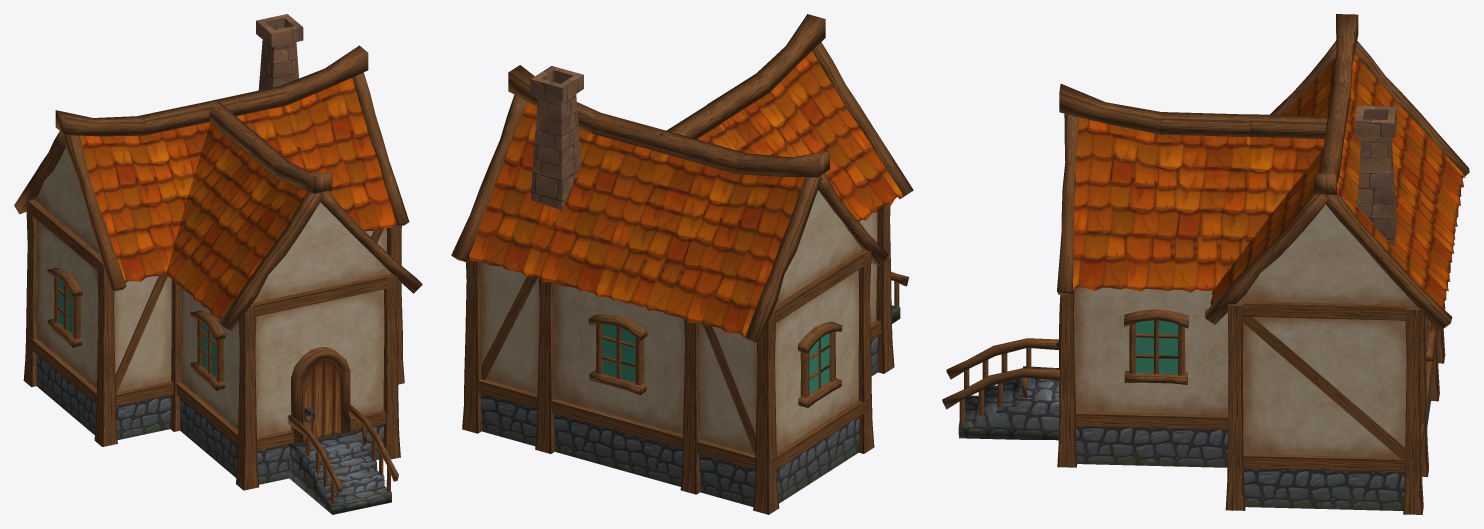
Rendered from casa1.fbx.
The picture shows the model from 3 angles, left to right: view 1: azimuth 30°, elevation 25°; view 2: azimuth 150°, elevation 25°; view 3: azimuth 270°, elevation 25°; orthographic projection. The views are drawn at different scales.
Parts seen in each view (by area): view 1: RH1; view 2: RH1; view 3: RH1.
Part boxes in pixels (<box>): RH1: <box>14,14,422,514</box>; RH1: <box>451,14,913,514</box>; RH1: <box>942,14,1469,514</box>.
Size of the model in its own units: 434 by 447 by 587.
